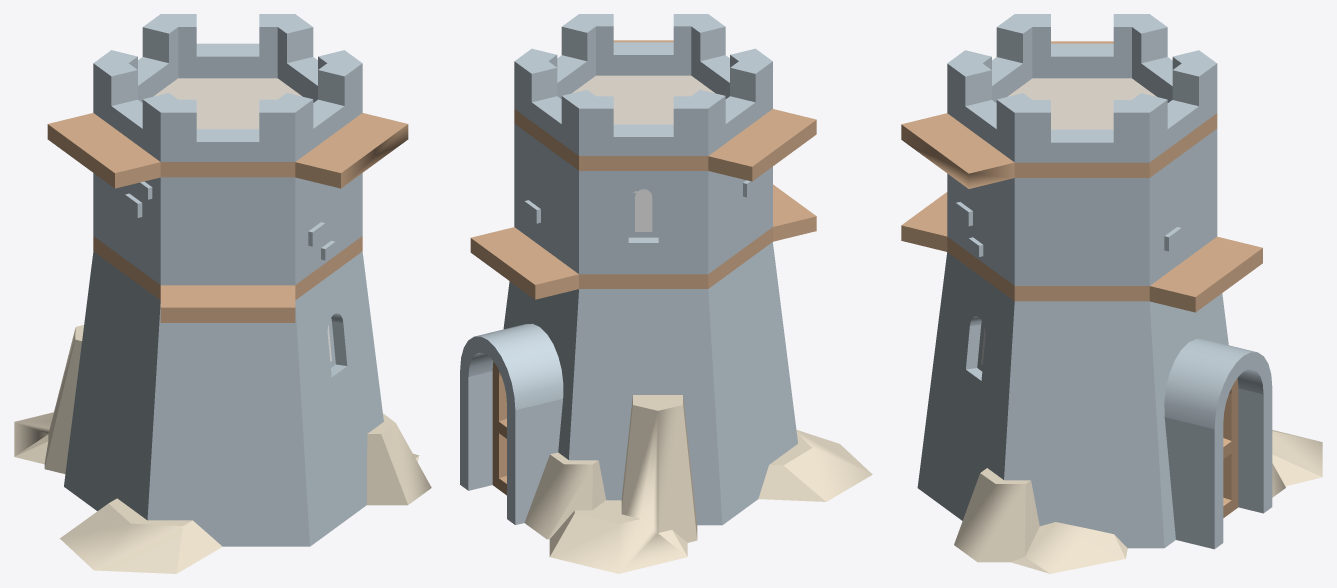
Rendered from tour_pirate.glb.
3 renders of one model, left to right at view 1: azimuth 30°, elevation 25°; view 2: azimuth 150°, elevation 25°; view 3: azimuth 270°, elevation 25°, orthographic. The views are drawn at different scales.
Visible parts, largest first — view 1: tour_pirate_assimp; view 2: tour_pirate_assimp; view 3: tour_pirate_assimp.
Boxes of the visible parts, x1,y1,x2,y2 form: tour_pirate_assimp: [14, 14, 431, 573]; tour_pirate_assimp: [460, 14, 872, 573]; tour_pirate_assimp: [901, 14, 1322, 573].
Bounding box in the file's own units: 33.22 × 37.15 × 33.4.
